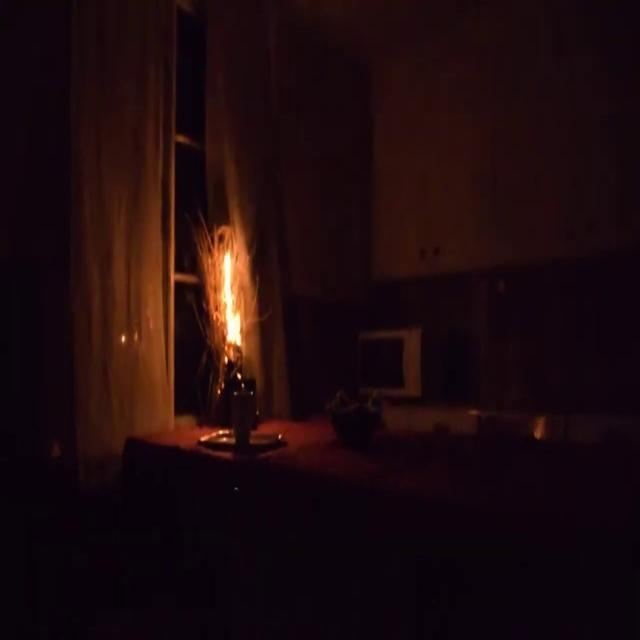Fire: (215, 228, 247, 360)
